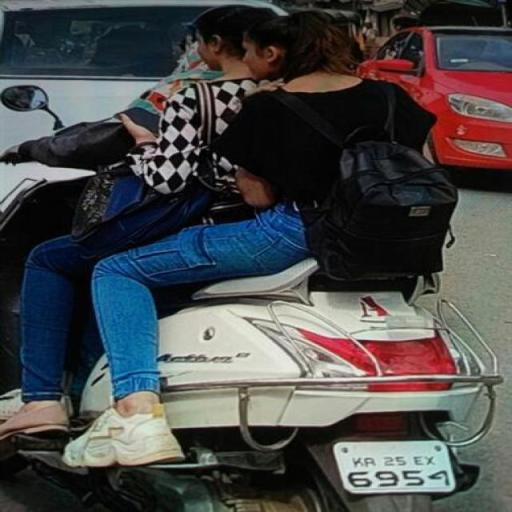tripple riding: (5, 0, 468, 326)
